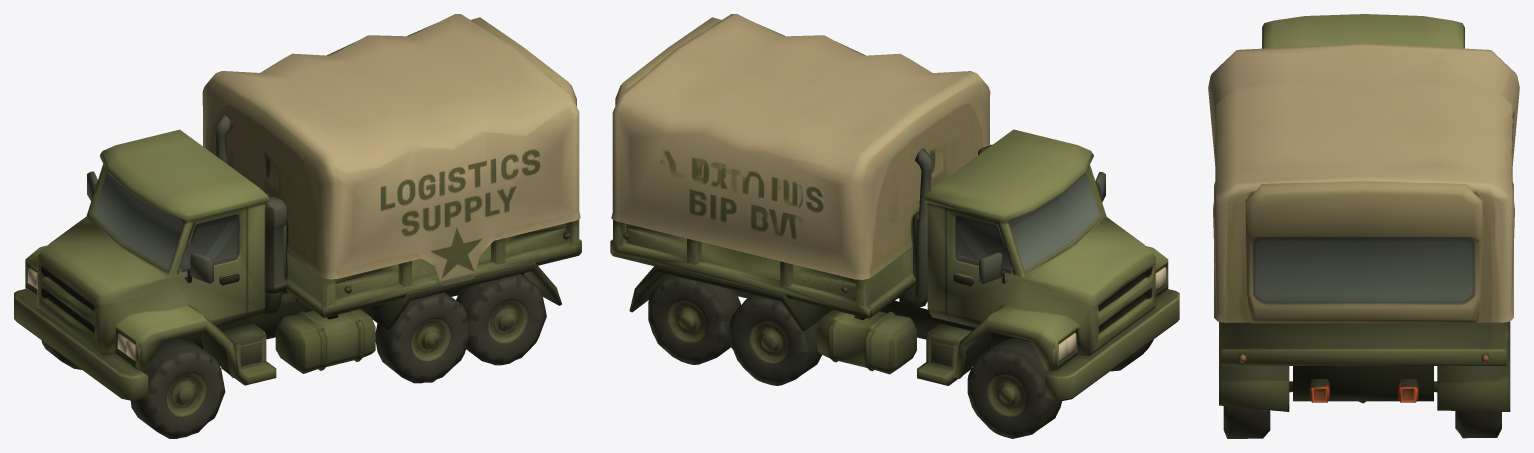
The picture shows the model from 3 angles, left to right: view 1: azimuth 30°, elevation 25°; view 2: azimuth 150°, elevation 25°; view 3: azimuth 270°, elevation 25°; orthographic projection. The views are drawn at different scales.
Visible parts, largest first — view 1: tripo_node_b430128c-d54c-4c79-b590-5d96611fa920; view 2: tripo_node_b430128c-d54c-4c79-b590-5d96611fa920; view 3: tripo_node_b430128c-d54c-4c79-b590-5d96611fa920.
Boxes of the visible parts, bbox=[...] form: tripo_node_b430128c-d54c-4c79-b590-5d96611fa920: bbox=[14, 14, 581, 438]; tripo_node_b430128c-d54c-4c79-b590-5d96611fa920: bbox=[610, 14, 1179, 438]; tripo_node_b430128c-d54c-4c79-b590-5d96611fa920: bbox=[1208, 14, 1519, 438].
Bounding box in the file's own units: 0.998 × 0.5293 × 0.5098.
Materials: 1 (1 with a texture image).
